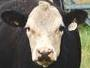muzzles: (31, 45, 56, 67)
